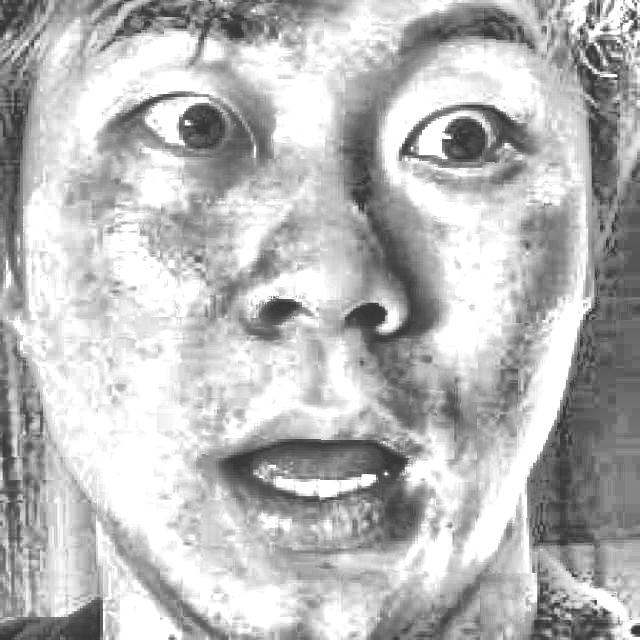fear: (99, 2, 545, 572)
